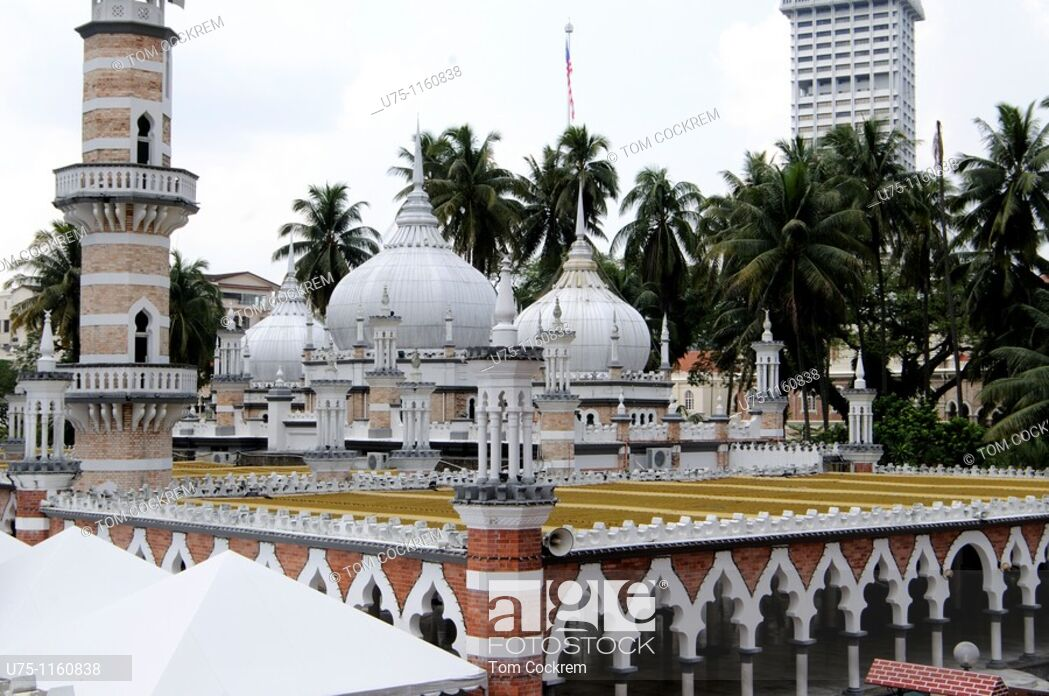Mosque: (51, 13, 881, 550)
